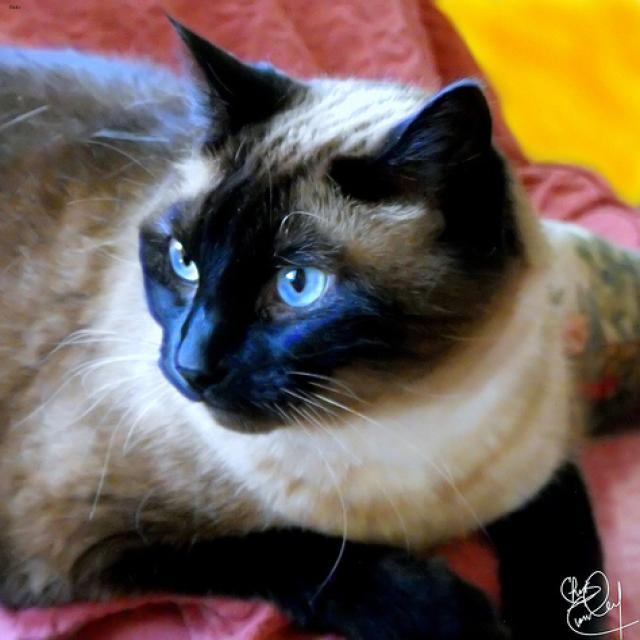Siamese: (114, 7, 541, 442)
